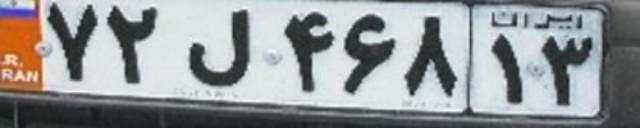1: (490, 33, 524, 103)
2: (106, 5, 155, 83)
3: (540, 35, 590, 106)
4: (285, 11, 333, 91)
6: (342, 12, 395, 94)
7: (44, 1, 97, 80)
8: (402, 16, 459, 97)
lam: (188, 9, 249, 85)
